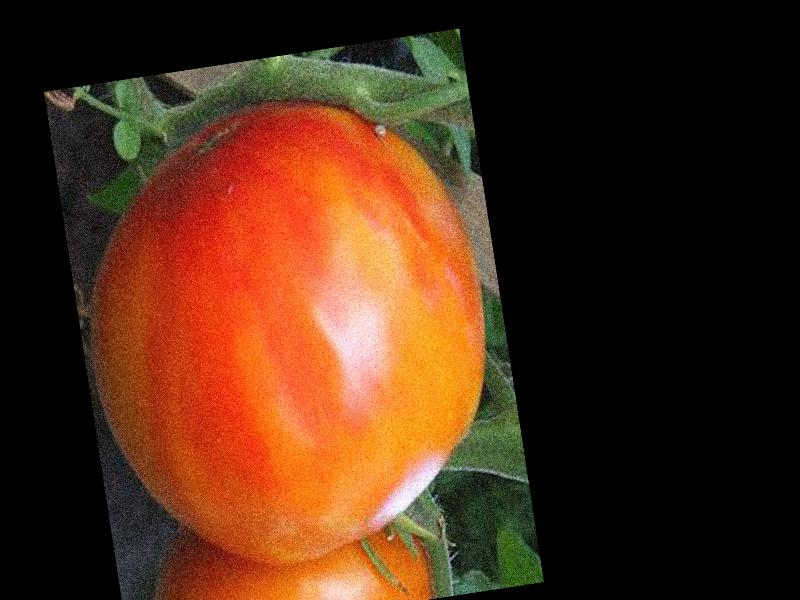Tomato: (59, 78, 515, 583)
